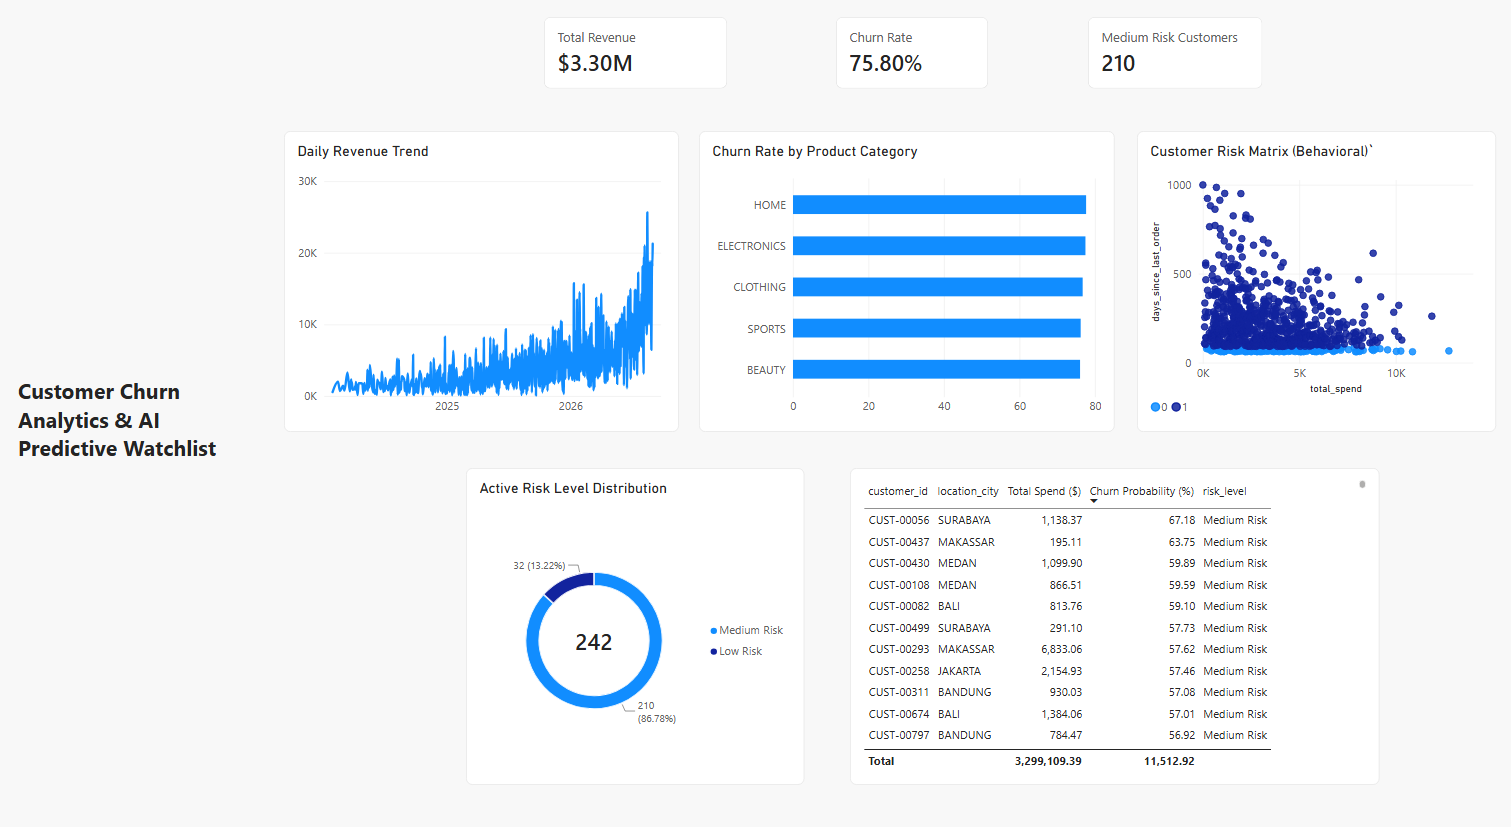

Layout of this report page (visuals, bound fields, positions):
{"tool":"powerbi","page":{"name":"Page 1","canvas":[1920,1080],"ordinal":0},"visuals":[{"type":"cardVisual","fields":{"Data":["Sum(gold mart_daily_revenue.total_daily_revenue)"]},"box":[694.5,37.9,230.5,90.5],"z":0},{"type":"cardVisual","fields":{"Data":["Avg(gold mart_customer_rfm.is_churned)"]},"box":[1060.7,37.9,191.1,90.5],"z":1000},{"type":"cardVisual","fields":{"Data":["Count(gold mart_churn_predictions.customer_id)"]},"box":[1377.9,37.5,219.9,90.6],"z":2000},{"type":"lineChart","title":"Daily Revenue Trend","fields":{"Category":["gold mart_daily_revenue.order_date"],"Y":["Sum(gold mart_daily_revenue.total_daily_revenue)"]},"box":[367.7,180.9,496,377.9],"z":3000},{"type":"clusteredBarChart","title":"Churn Rate by Product Category","fields":{"Category":["gold mart_product_performance.category_name"],"Y":["Avg(gold mart_product_performance.product_churn_rate_percentage)"]},"box":[888.5,180.9,522.3,377.9],"z":4000},{"type":"scatterChart","title":"Customer Risk Matrix (Behavioral)","fields":{"Series":["gold mart_customer_rfm.is_churned"],"X":["gold mart_customer_rfm.total_spend"],"Y":["gold mart_customer_rfm.days_since_last_order"]},"box":[1438.5,180.9,450.8,377.9],"z":5000},{"type":"donutChart","title":"Active Risk Level Distribution","fields":{"Category":["gold mart_churn_predictions.risk_level"],"Y":["CountNonNull(gold mart_churn_predictions.customer_id)"]},"box":[596.7,604,424.6,398.3],"z":6000},{"type":"tableEx","fields":{"Values":["gold mart_customer_rfm.customer_id","gold mart_customer_rfm.location_city","Sum(gold mart_customer_rfm.total_spend)","Sum(gold mart_churn_predictions.churn_probability_percent)","gold mart_churn_predictions.risk_level"]},"box":[1078.2,604,665.3,398.3],"z":7000},{"type":"textbox","box":[33.9,488.5,293.9,115.5],"z":7001}]}

Visuals, with their boxes in screenshot pixels (x1, y1, x2, y2), scaled from the page's 1920x1080 canvas onto the 1511x827 screenshot:
cardVisual - Sum(gold mart_daily_revenue.total_daily_revenue): (547,29,728,98)
cardVisual - Avg(gold mart_customer_rfm.is_churned): (835,29,985,98)
cardVisual - Count(gold mart_churn_predictions.customer_id): (1084,29,1257,98)
"Daily Revenue Trend" lineChart: (289,139,680,428)
"Churn Rate by Product Category" clusteredBarChart: (699,139,1110,428)
"Customer Risk Matrix (Behavioral)" scatterChart: (1132,139,1487,428)
"Active Risk Level Distribution" donutChart: (470,463,804,768)
tableEx - gold mart_customer_rfm.customer_id x gold mart_customer_rfm.location_city: (849,463,1372,768)
textbox: (27,374,258,463)
